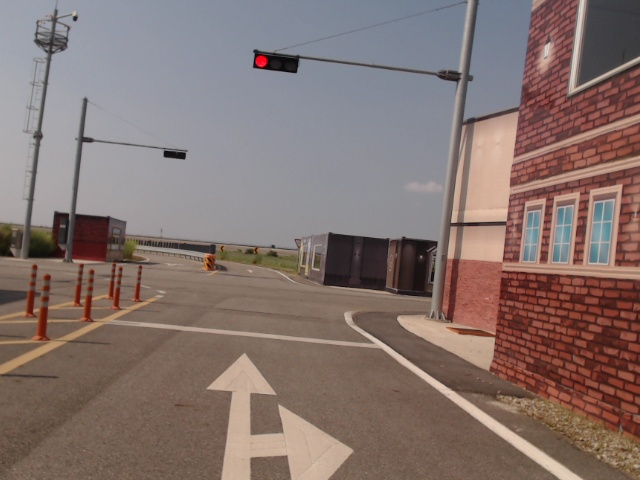red_3: (252, 52, 299, 73)
